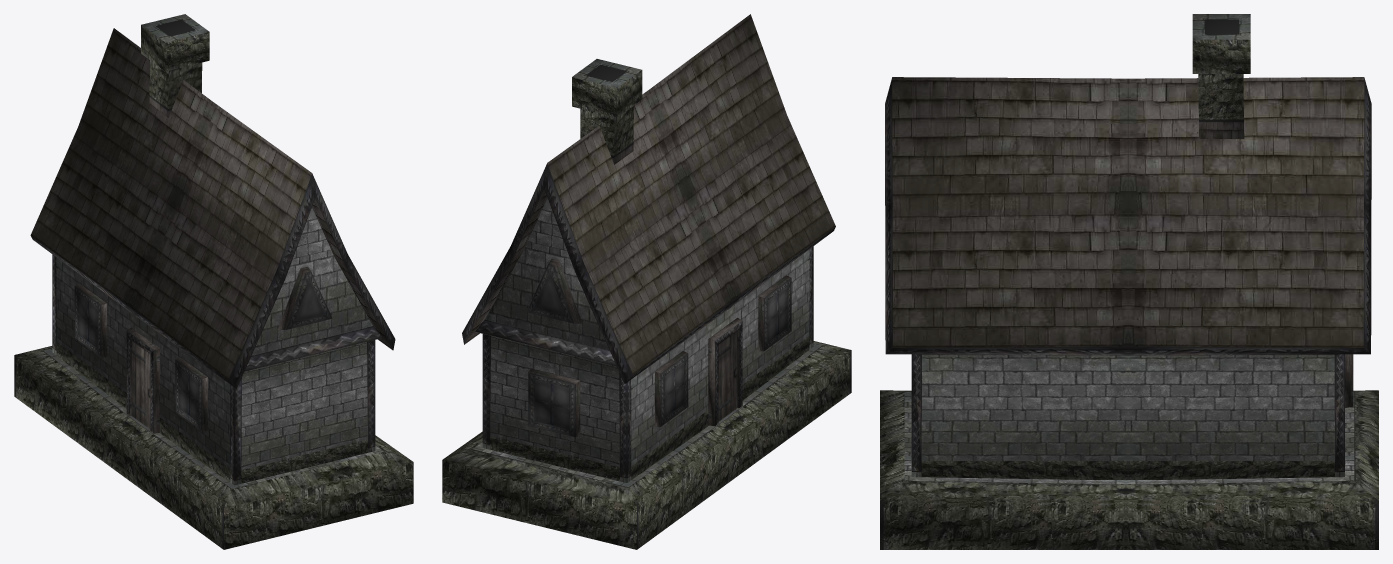
The model's file is house2-04.obj.
3 renders of one model, left to right at view 1: azimuth 30°, elevation 25°; view 2: azimuth 150°, elevation 25°; view 3: azimuth 270°, elevation 25°, orthographic. The views are drawn at different scales.
Size of the model in its own units: 4.96 by 9.81 by 9.48.
Materials: 1 (1 with a texture image).
